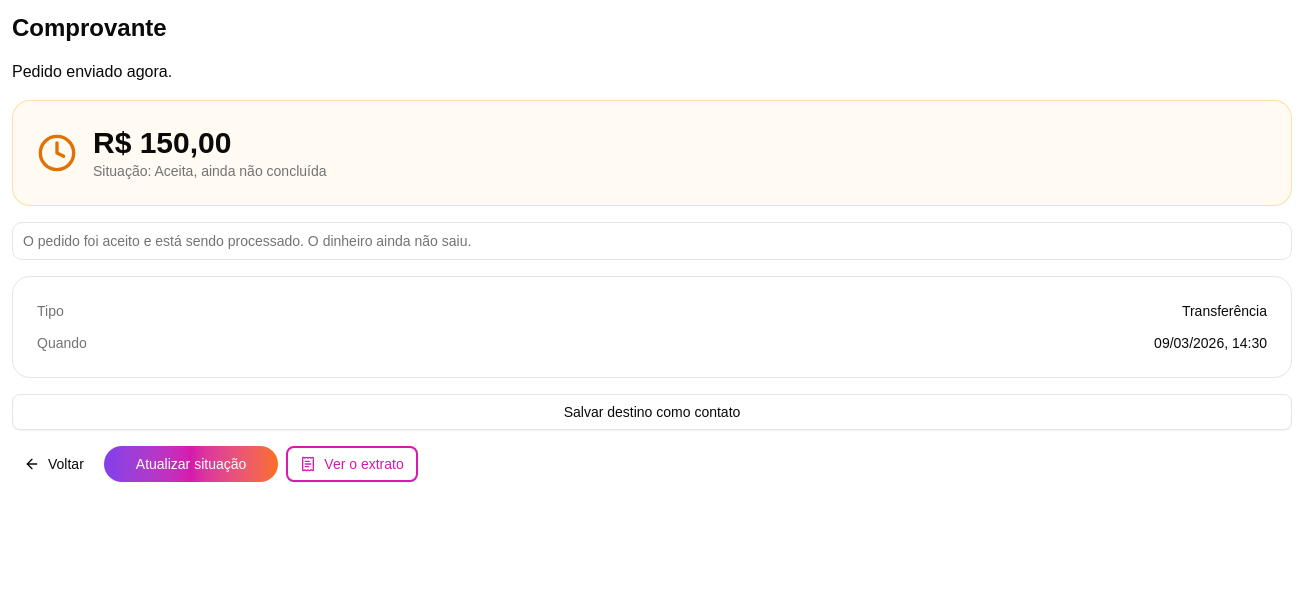
Test: recibo › quando salvar o contato falha, o formulario e o botao continuam disponiveis
Click the button "Salvar destino como contato": x=652, y=412 [12,394,1292,430]
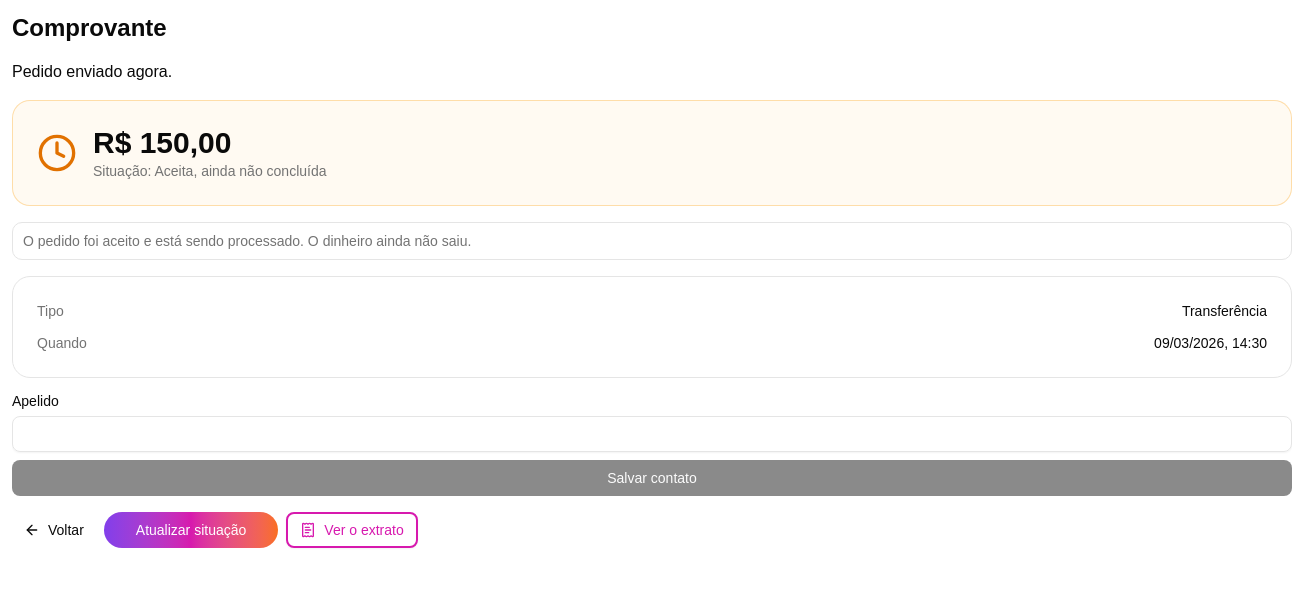
In the field labelled "Apelido": x=652, y=434 [12,416,1292,452], type "Joao"
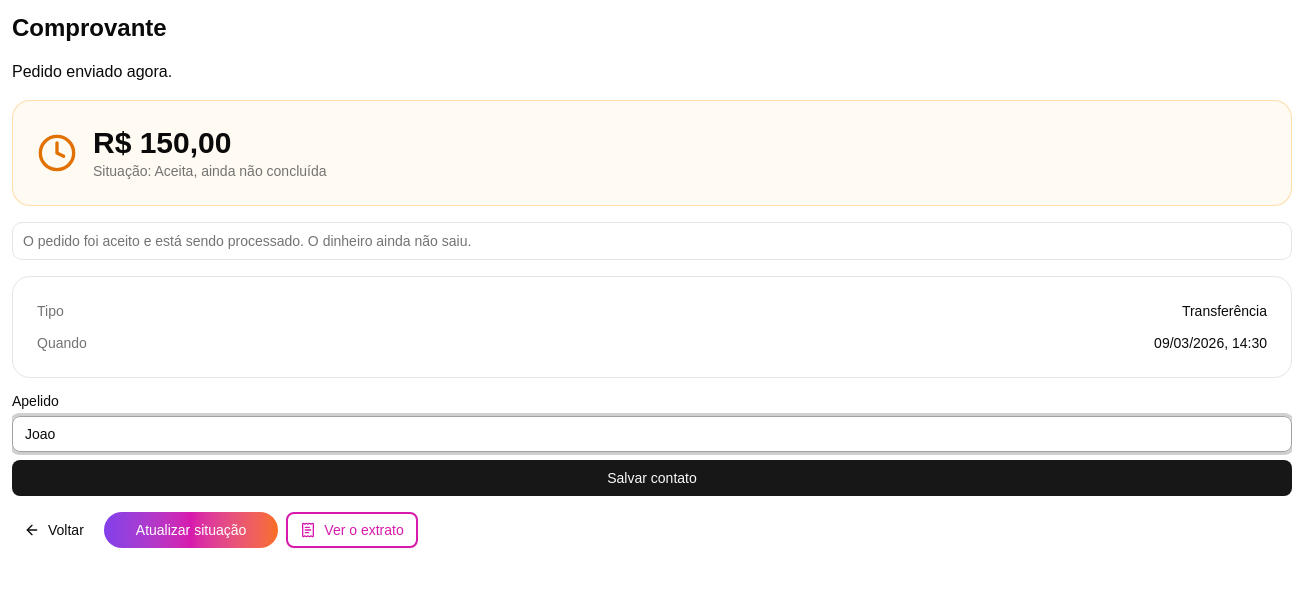
Click the button "Salvar contato": x=652, y=478 [12,460,1292,496]
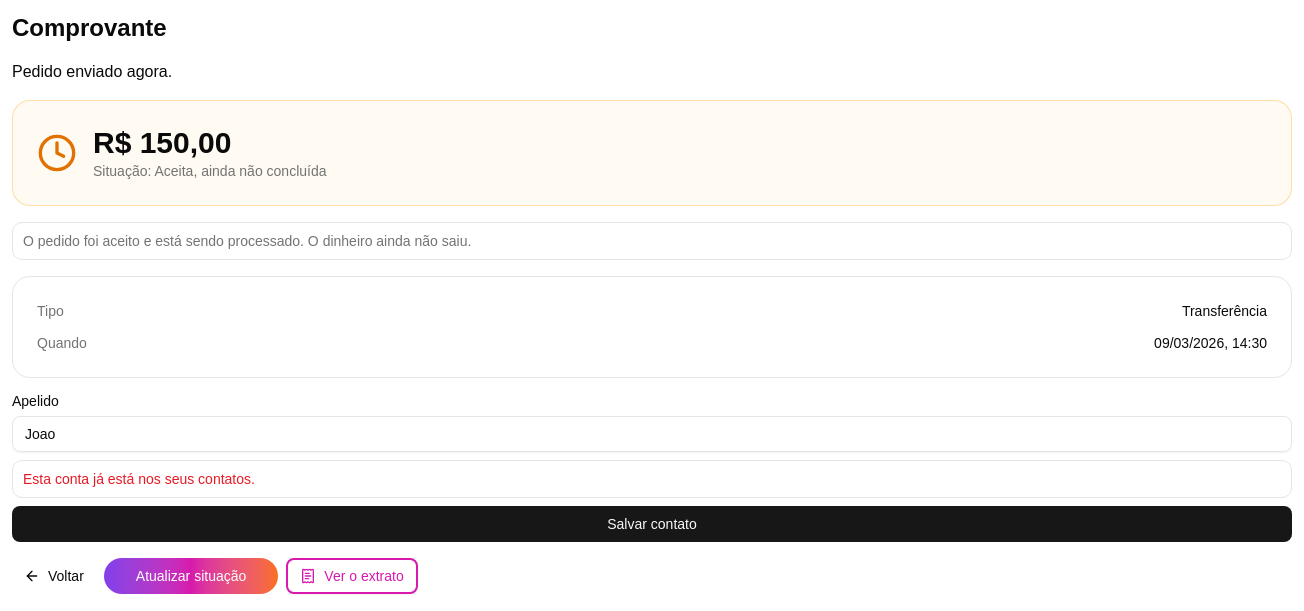
expect the button "Salvar contato" is shown: met, box [12,506,1292,542]
expect the message "Esta conta já está nos seus contatos." is shown: met, box [12,460,1292,498]
